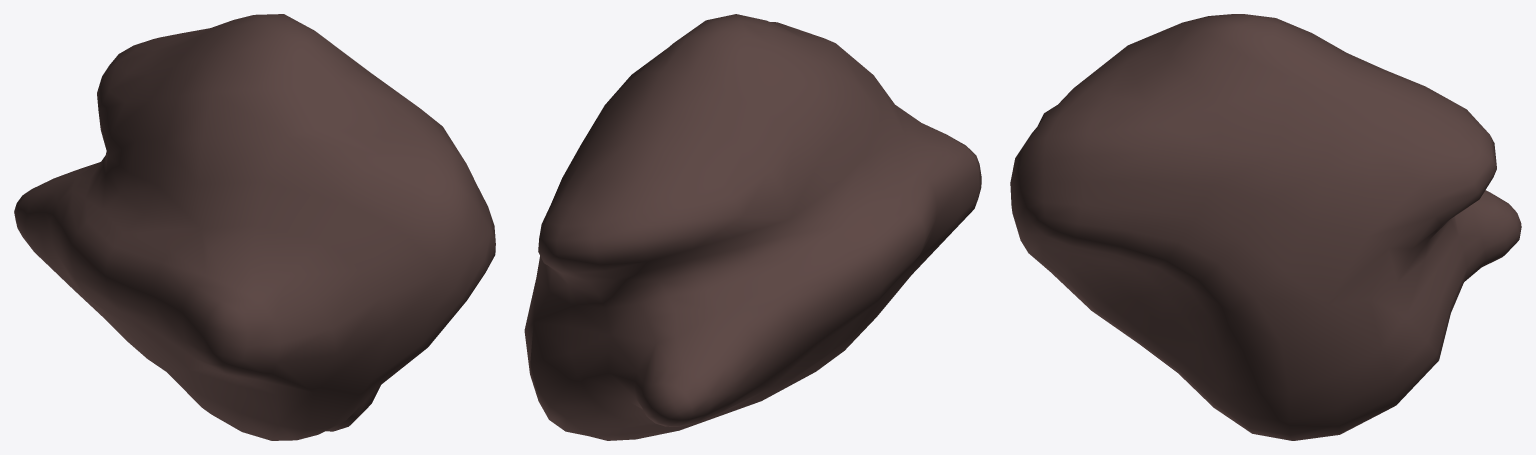
File: rock_2.fbx
3 views of the same model, side by side, from view 1: azimuth 30°, elevation 25°; view 2: azimuth 150°, elevation 25°; view 3: azimuth 270°, elevation 25° (orthographic). The views are drawn at different scales.
Visible parts, largest first — view 1: rock_2_retop; view 2: rock_2_retop; view 3: rock_2_retop.
Part boxes in pixels (box(x1,y1,x2,y2)): rock_2_retop: box(14, 14, 495, 440); rock_2_retop: box(524, 14, 981, 440); rock_2_retop: box(1010, 14, 1521, 440).
Bounding box in the file's own units: 127 × 151 × 183.
